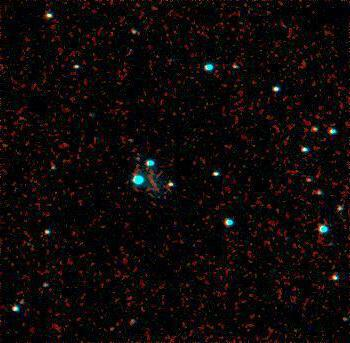star: (97, 314, 127, 343)
